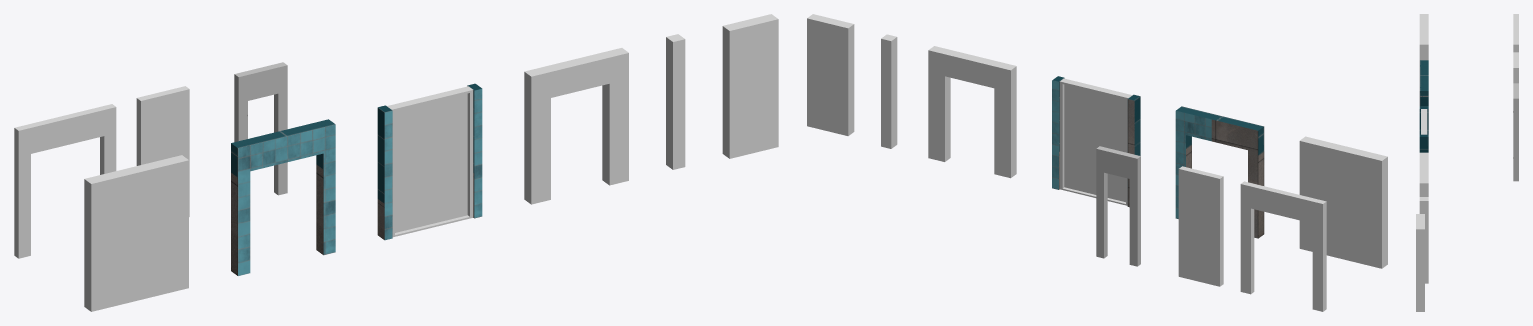
The model's file is mv_walls.fbx.
3 renders of one model, left to right at view 1: azimuth 30°, elevation 25°; view 2: azimuth 150°, elevation 25°; view 3: azimuth 270°, elevation 25°, orthographic. The views are drawn at different scales.
Visible parts, largest first — view 1: Wall 2x2,5, Wall 2x2,5 door single, window, Wall 1x2,5, Wall 2x2,5 door double, Wall inner 2x2,5 door, Wall inner 1x2,5, Wall 2x2,5.window, Wall inner 1x2,5 door, Wall corner 2,5, Wall 2x2,5 window frame; view 2: Wall 2x2,5, Wall 2x2,5 door single, window, Wall 1x2,5, Wall inner 1x2,5, Wall inner 2x2,5 door, Wall 2x2,5 door double, Wall inner 1x2,5 door, Wall corner 2,5, Wall 2x2,5.window, Wall 2x2,5 window frame; view 3: Wall 1x2,5, Wall inner 1x2,5 door, Wall 2x2,5, Wall 2x2,5 door double, Wall corner 2,5, Wall 2x2,5 door single, Wall 2x2,5.window, Wall inner 2x2,5 door, Wall inner 1x2,5, Wall 2x2,5 window frame.
Boxes of the visible parts, <box> form: Wall 2x2,5: <box>84,155,188,311</box>; Wall 2x2,5 door single: <box>524,48,628,204</box>; window: <box>395,93,467,232</box>; Wall 1x2,5: <box>722,14,778,158</box>; Wall 2x2,5 door double: <box>231,119,335,275</box>; Wall inner 2x2,5 door: <box>14,104,116,258</box>; Wall inner 1x2,5: <box>136,86,189,216</box>; Wall 2x2,5.window: <box>377,83,482,240</box>; Wall inner 1x2,5 door: <box>234,62,287,195</box>; Wall corner 2,5: <box>666,34,685,169</box>; Wall 2x2,5 window frame: <box>387,86,473,237</box>; Wall 2x2,5: <box>1299,136,1387,268</box>; Wall 2x2,5 door single: <box>928,46,1016,178</box>; window: <box>1064,84,1125,202</box>; Wall 1x2,5: <box>807,14,854,135</box>; Wall inner 1x2,5: <box>1178,166,1223,286</box>; Wall inner 2x2,5 door: <box>1240,181,1326,311</box>; Wall 2x2,5 door double: <box>1175,106,1264,238</box>; Wall inner 1x2,5 door: <box>1096,146,1140,266</box>; Wall corner 2,5: <box>881,34,897,148</box>; Wall 2x2,5.window: <box>1052,76,1140,207</box>; Wall 2x2,5 window frame: <box>1059,78,1132,205</box>; Wall 1x2,5: <box>1416,214,1424,311</box>; Wall inner 1x2,5 door: <box>1513,83,1518,181</box>; Wall 2x2,5: <box>1419,14,1428,60</box>; Wall 2x2,5 door double: <box>1419,60,1428,106</box>; Wall corner 2,5: <box>1419,197,1428,283</box>; Wall 2x2,5 door single: <box>1419,152,1428,196</box>; Wall 2x2,5.window: <box>1419,106,1428,152</box>; Wall inner 2x2,5 door: <box>1513,14,1518,52</box>; Wall inner 1x2,5: <box>1513,52,1518,83</box>; Wall 2x2,5 window frame: <box>1421,109,1427,134</box>.
Size of the model in its own units: 1400 by 250 by 282.
